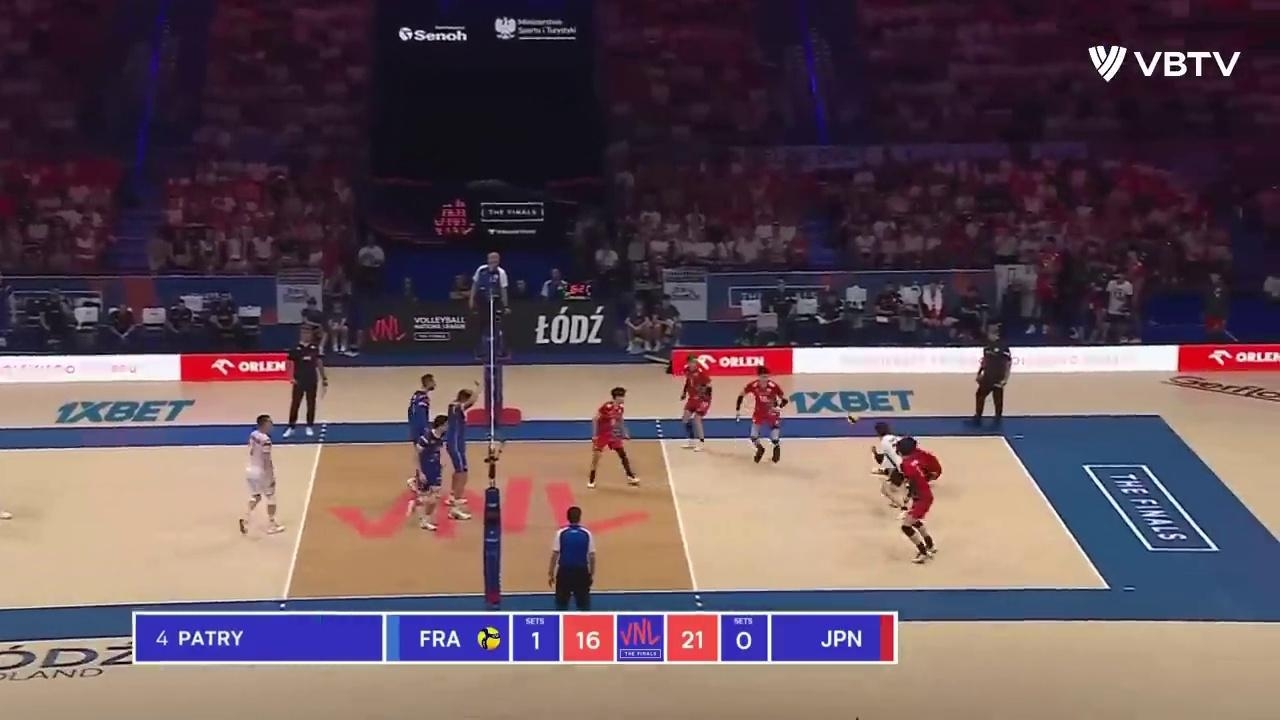ball: (848, 413, 858, 423)
